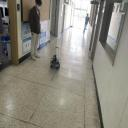cart: (50, 56, 61, 70)
